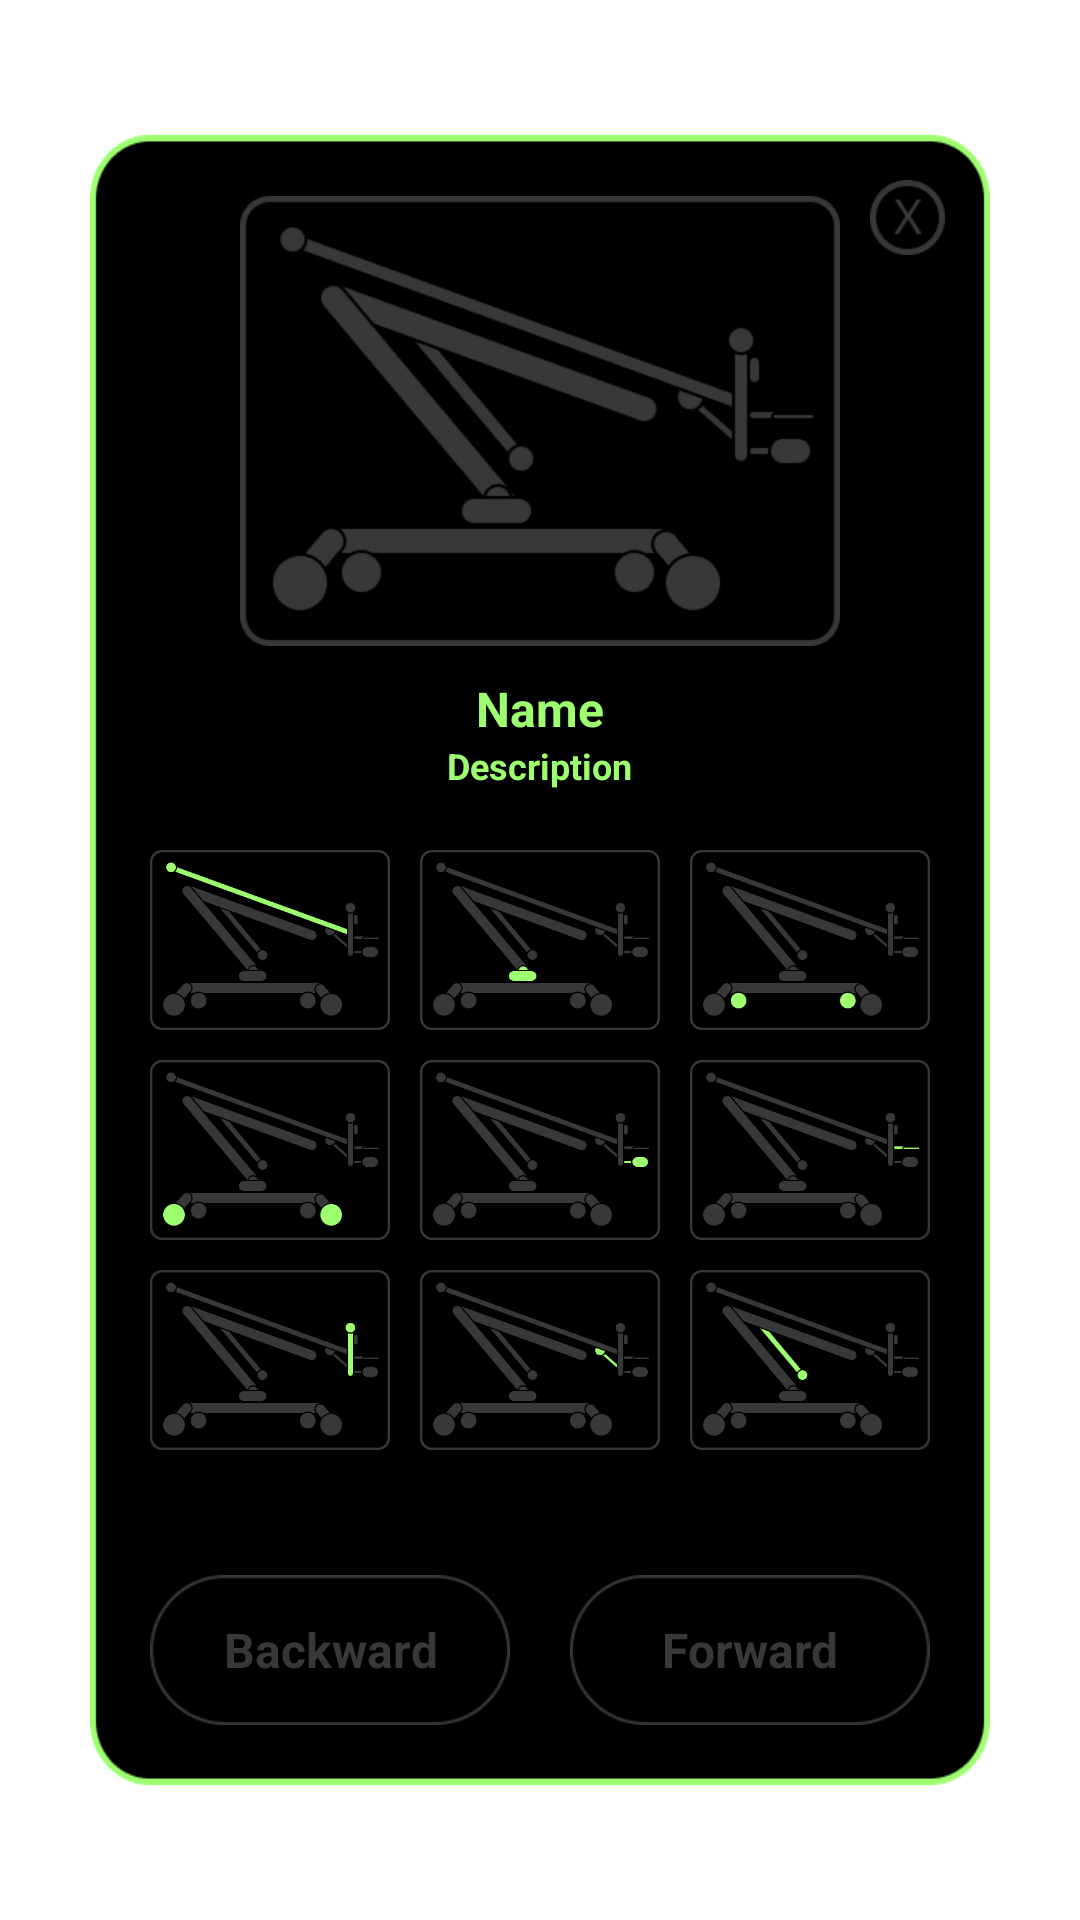

Named icons in this screenshot (1080x1920) and their bounding boxes, bbox=[x1, y1, x2, y2]:
exit dialog: bbox=[870, 180, 945, 255]
